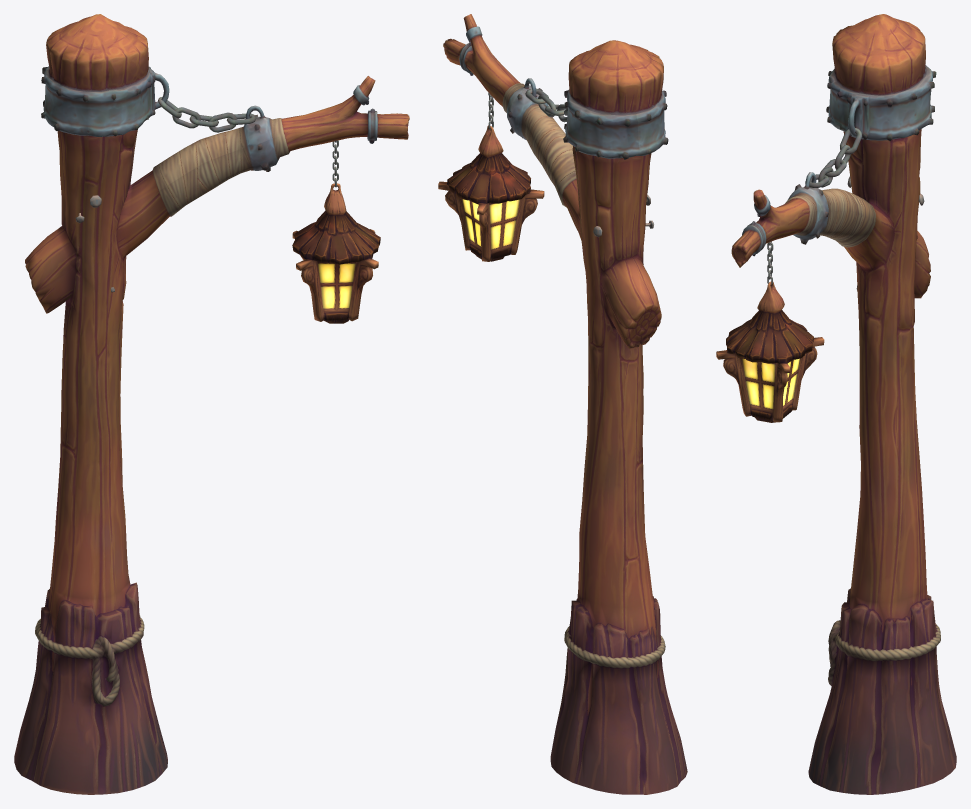
The model's file is light_ploe.glb.
3 renders of one model, left to right at view 1: azimuth 30°, elevation 25°; view 2: azimuth 150°, elevation 25°; view 3: azimuth 270°, elevation 25°, orthographic. The views are drawn at different scales.
Parts seen in each view (by area): view 1: LampPost_NewUV_Material #3_0.002, Lantern_Material #4_0.002, Chains_Material #2_0.004; view 2: LampPost_NewUV_Material #3_0.002, Lantern_Material #4_0.002, Chains_Material #2_0.004; view 3: LampPost_NewUV_Material #3_0.002, Lantern_Material #4_0.002, Chains_Material #2_0.004.
Boxes of the visible parts, x1=… form: LampPost_NewUV_Material #3_0.002: x1=14, y1=14, x2=409, y2=794; Lantern_Material #4_0.002: x1=292, y1=183, x2=380, y2=323; Chains_Material #2_0.004: x1=158, y1=97, x2=256, y2=132; LampPost_NewUV_Material #3_0.002: x1=443, y1=14, x2=687, y2=794; Lantern_Material #4_0.002: x1=438, y1=125, x2=544, y2=261; Chains_Material #2_0.004: x1=525, y1=88, x2=567, y2=122; LampPost_NewUV_Material #3_0.002: x1=731, y1=14, x2=956, y2=794; Lantern_Material #4_0.002: x1=716, y1=281, x2=824, y2=422; Chains_Material #2_0.004: x1=805, y1=128, x2=861, y2=187.
Bounding box in the file's own units: 1.67 × 3.81 × 1.1.
6 materials, 6 textured.
